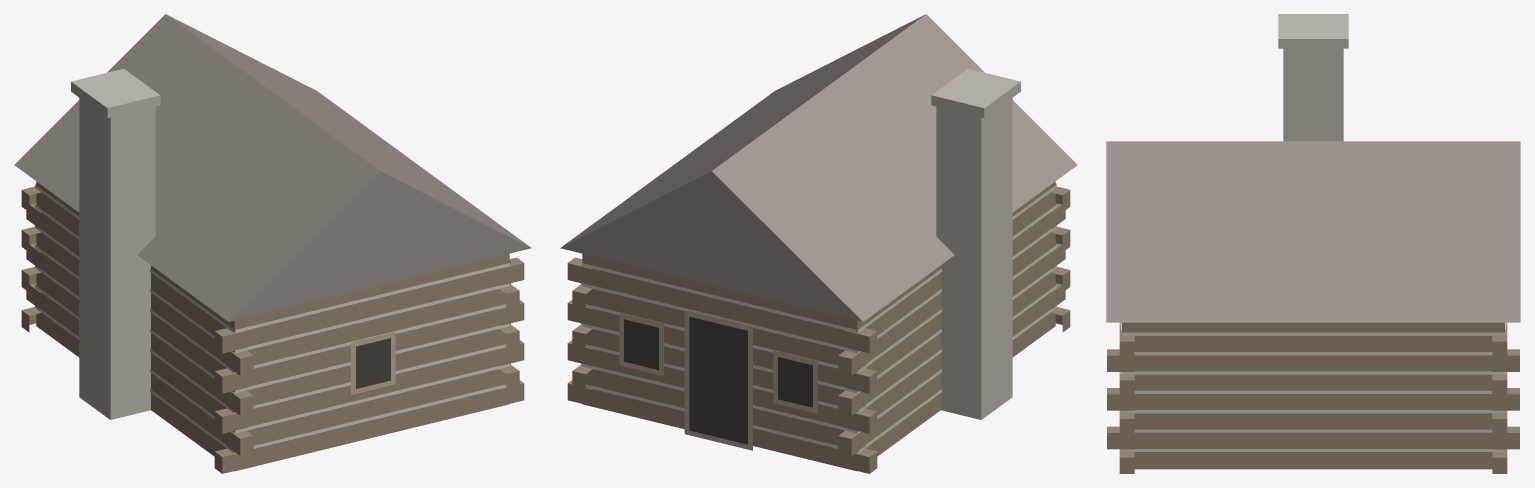
The model's file is inf_boatman_cabin_north__inferred_1835.glb.
3 views of the same model, side by side, from view 1: azimuth 30°, elevation 25°; view 2: azimuth 150°, elevation 25°; view 3: azimuth 270°, elevation 25° (orthographic). The views are drawn at different scales.
Visible parts, largest first — view 1: inf_boatman_cabin_north__inferred_1835; view 2: inf_boatman_cabin_north__inferred_1835; view 3: inf_boatman_cabin_north__inferred_1835.
Boxes of the visible parts, x1=… form: inf_boatman_cabin_north__inferred_1835: x1=14, y1=14, x2=531, y2=473; inf_boatman_cabin_north__inferred_1835: x1=560, y1=14, x2=1077, y2=473; inf_boatman_cabin_north__inferred_1835: x1=1106, y1=14, x2=1520, y2=473.
Size of the model in its own units: 5.95 by 5.41 by 6.6.
